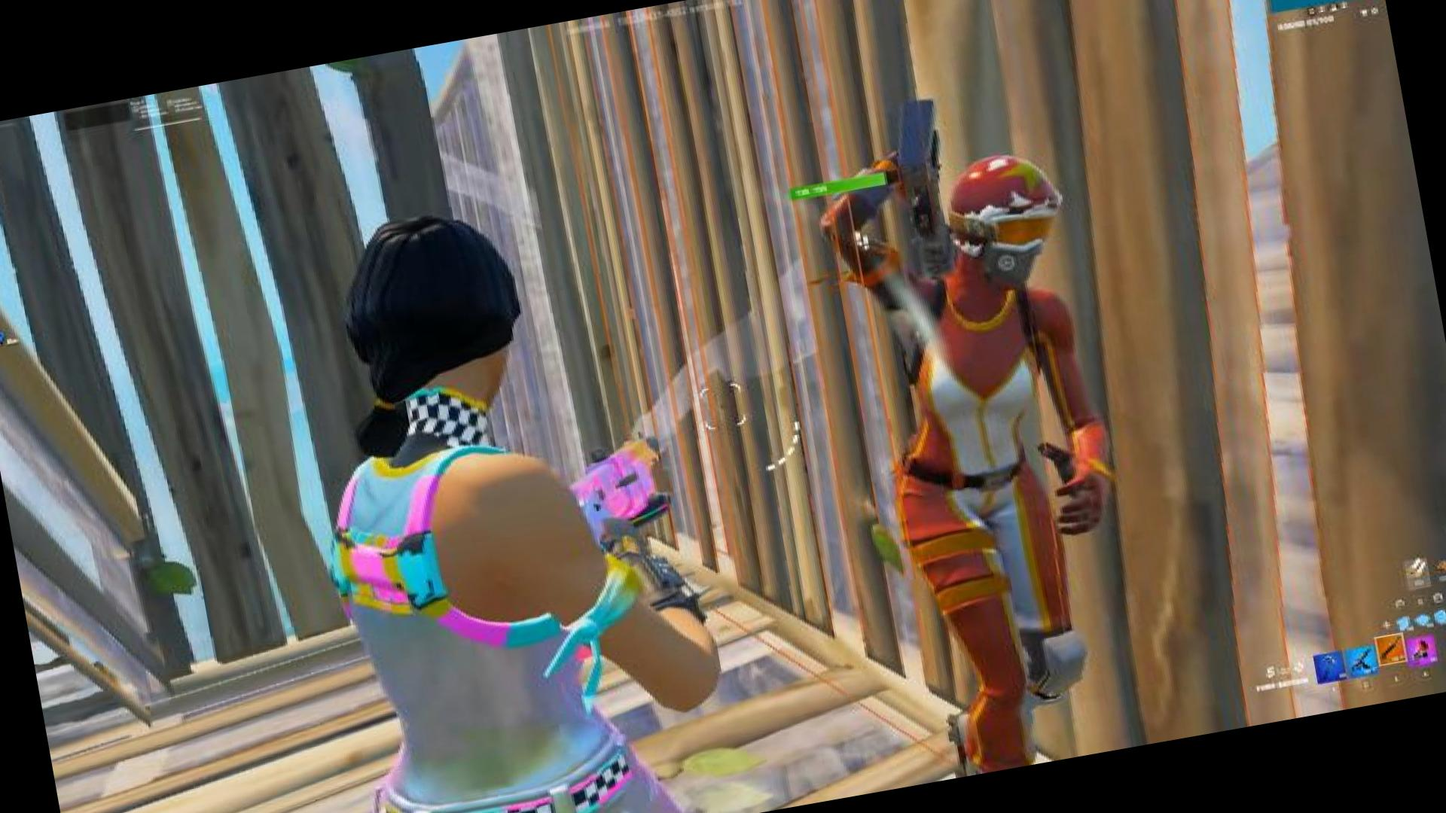player: (211, 164, 688, 813), (790, 121, 1159, 787)
